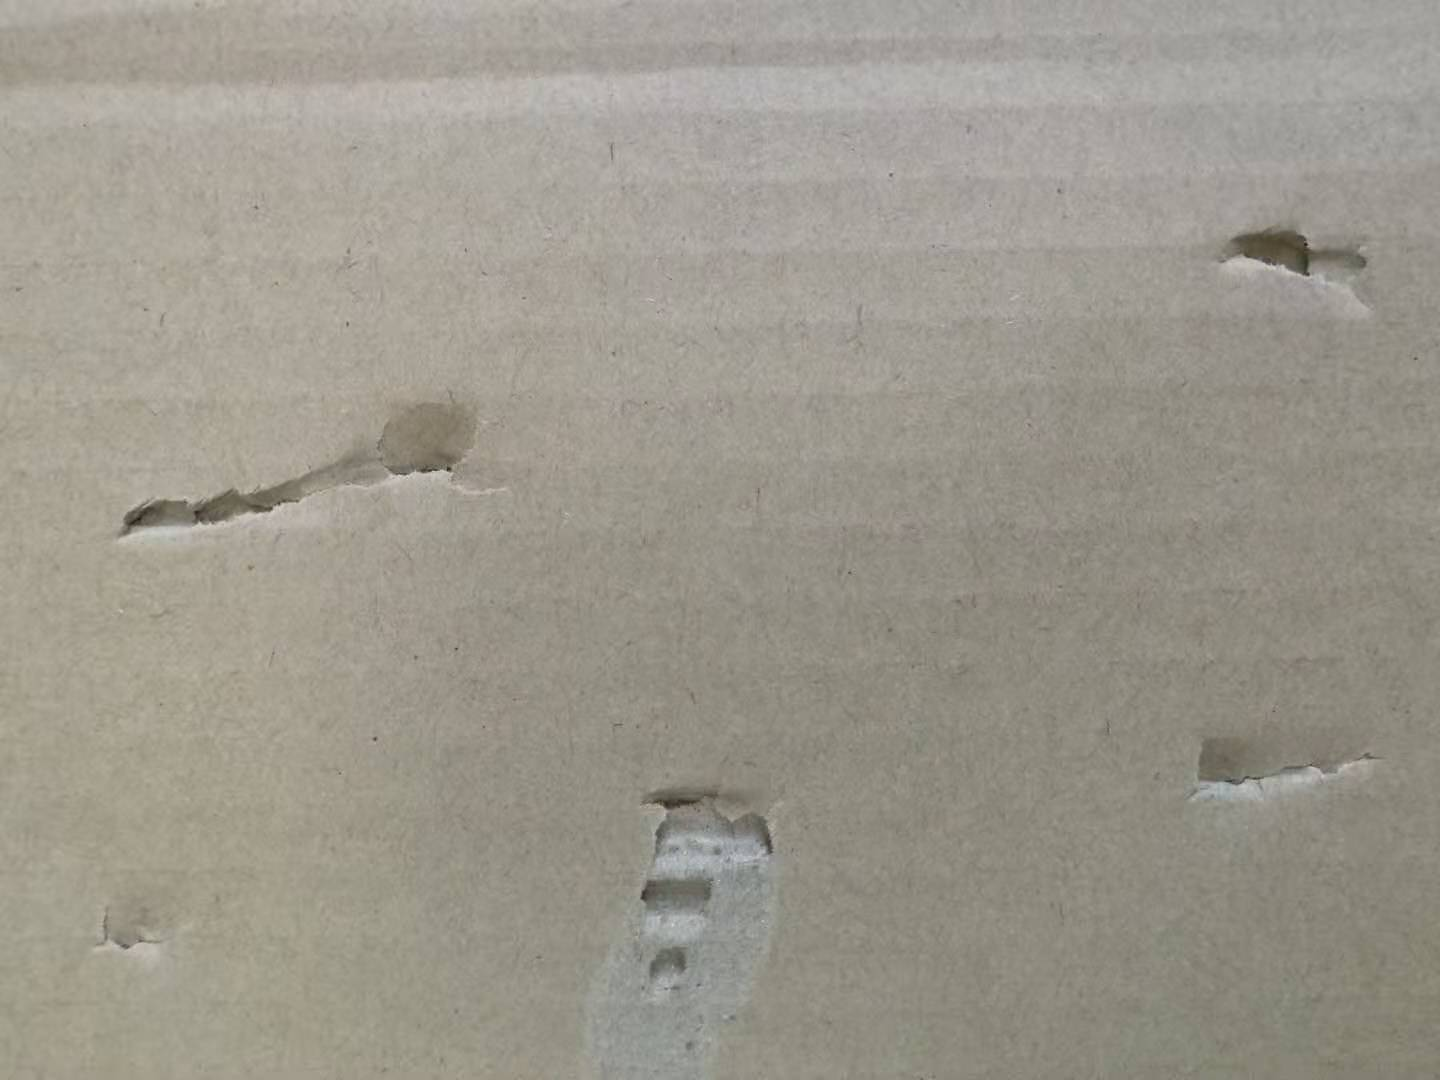defect: (1, 26, 1208, 121), (542, 750, 837, 1080), (88, 361, 539, 563), (1158, 706, 1414, 829), (1198, 187, 1401, 340), (73, 861, 202, 984)
